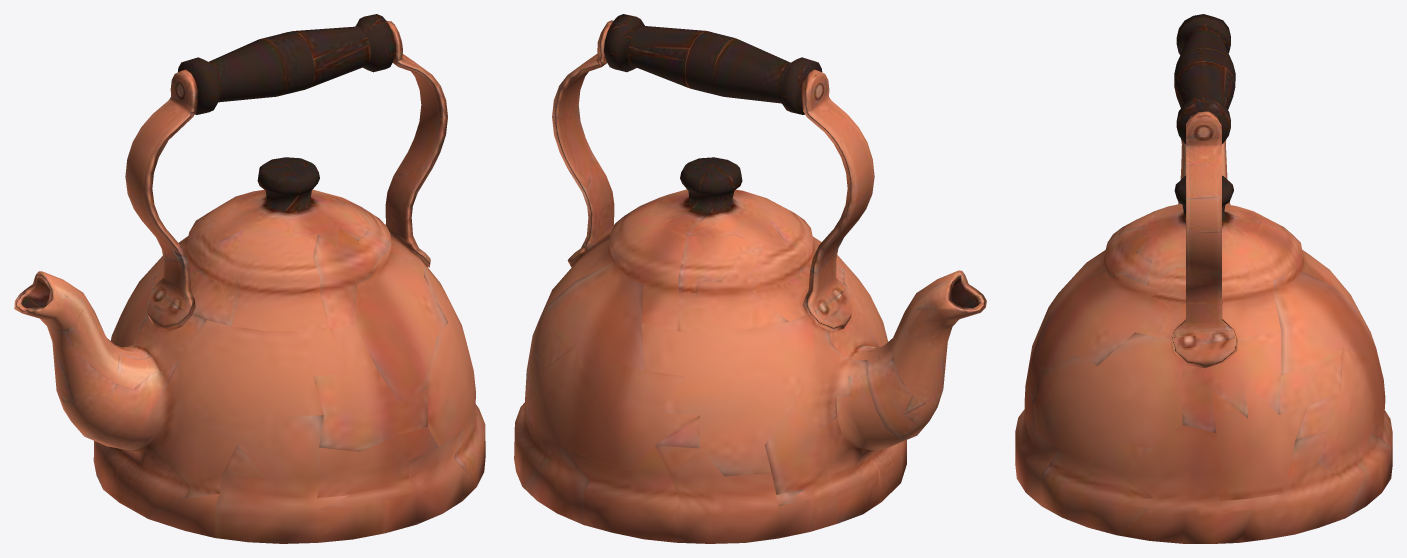
Rendered from item-copperKettle.glb.
The picture shows the model from 3 angles, left to right: view 1: azimuth 30°, elevation 25°; view 2: azimuth 150°, elevation 25°; view 3: azimuth 270°, elevation 25°; orthographic projection. The views are drawn at different scales.
Size of the model in its own units: 0.9561 by 0.8916 by 0.7368.
Materials: 1 (1 with a texture image).
